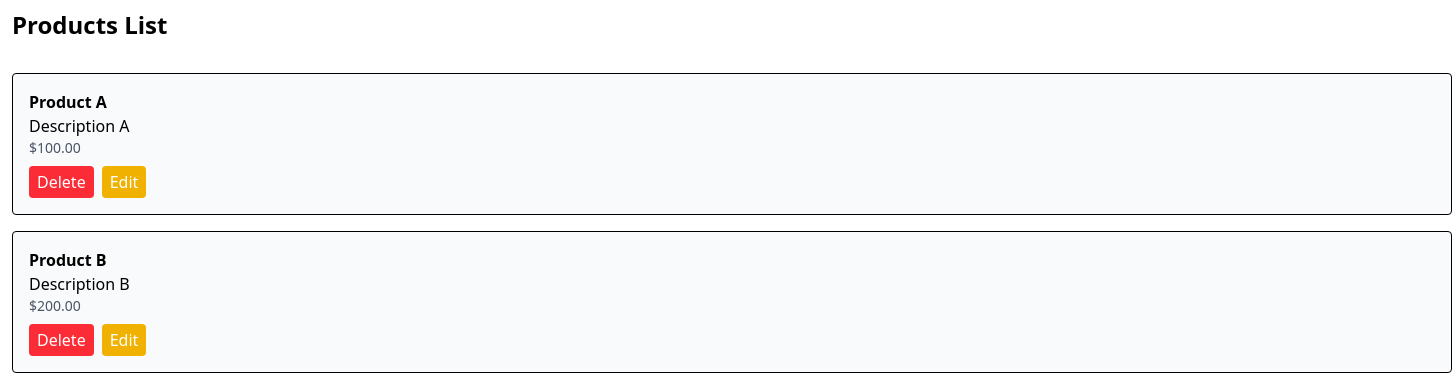
Test case: ItemList component › deletes a product when delete button is clicked
The width and height of the screenshot is (1452, 390).
Expected: the text "Product A" is shown, [29,91,107,113]
Click the button "Delete" below "100.00": (61, 182) [29,166,94,198]
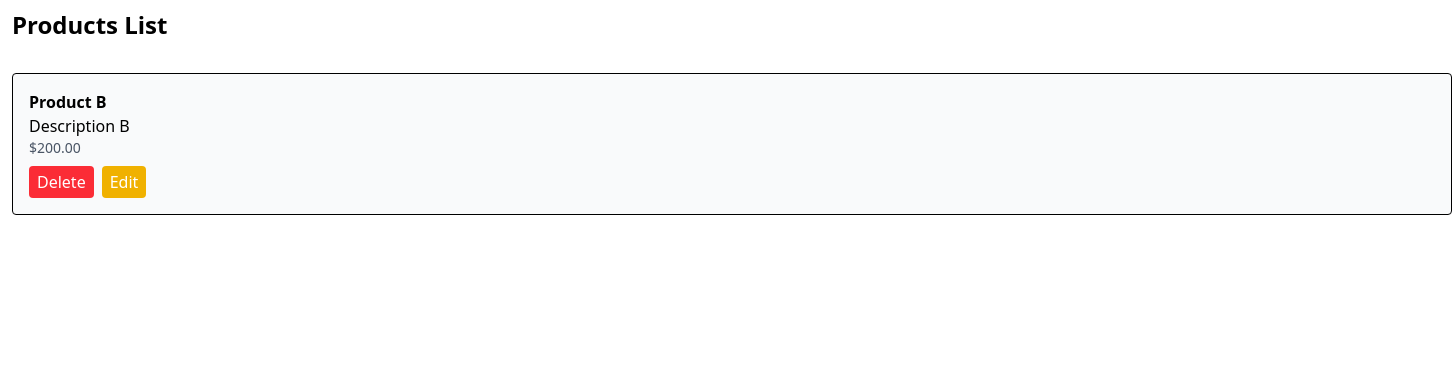
Result: the text "Product A" is gone
